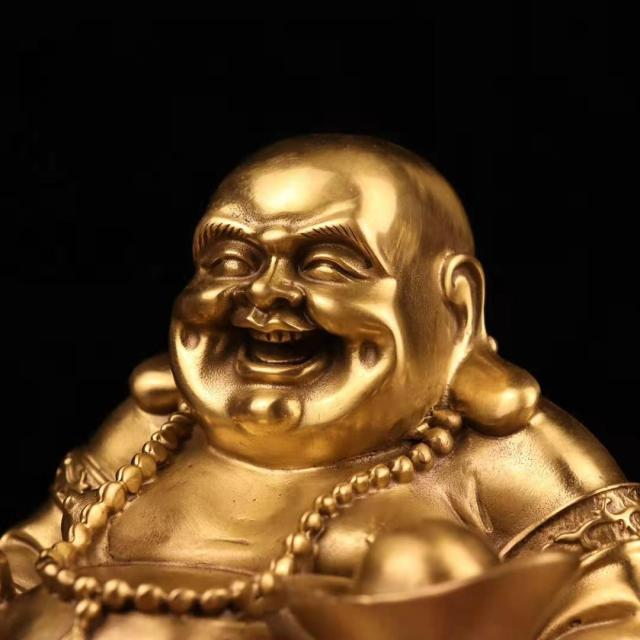Smiling Buddha: (144, 130, 516, 487)
